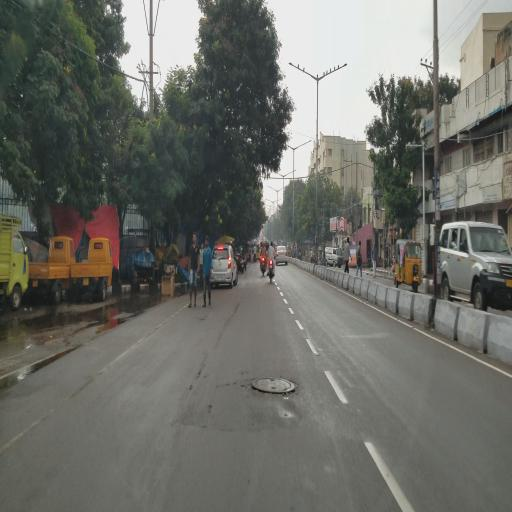street_light_0: (284, 44, 316, 84), (315, 52, 353, 82), (293, 133, 313, 156)
